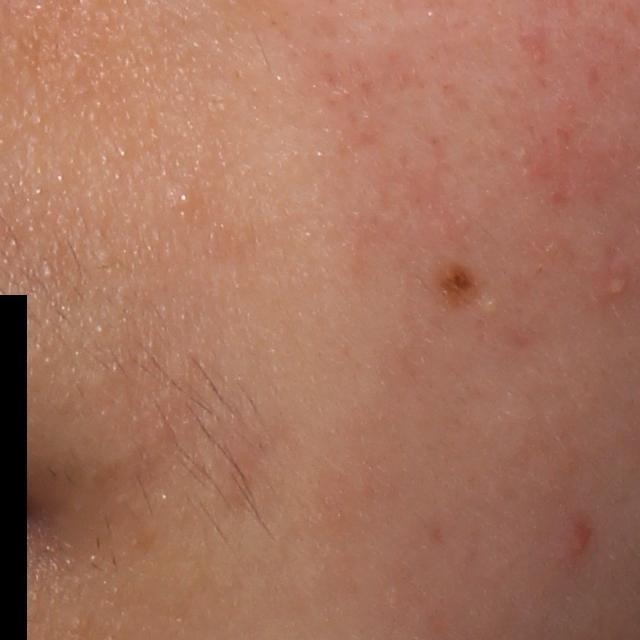comedo: (40, 264, 57, 282)
nevus: (435, 256, 479, 316)
papule: (565, 522, 593, 560)
pustule: (603, 268, 632, 304)
